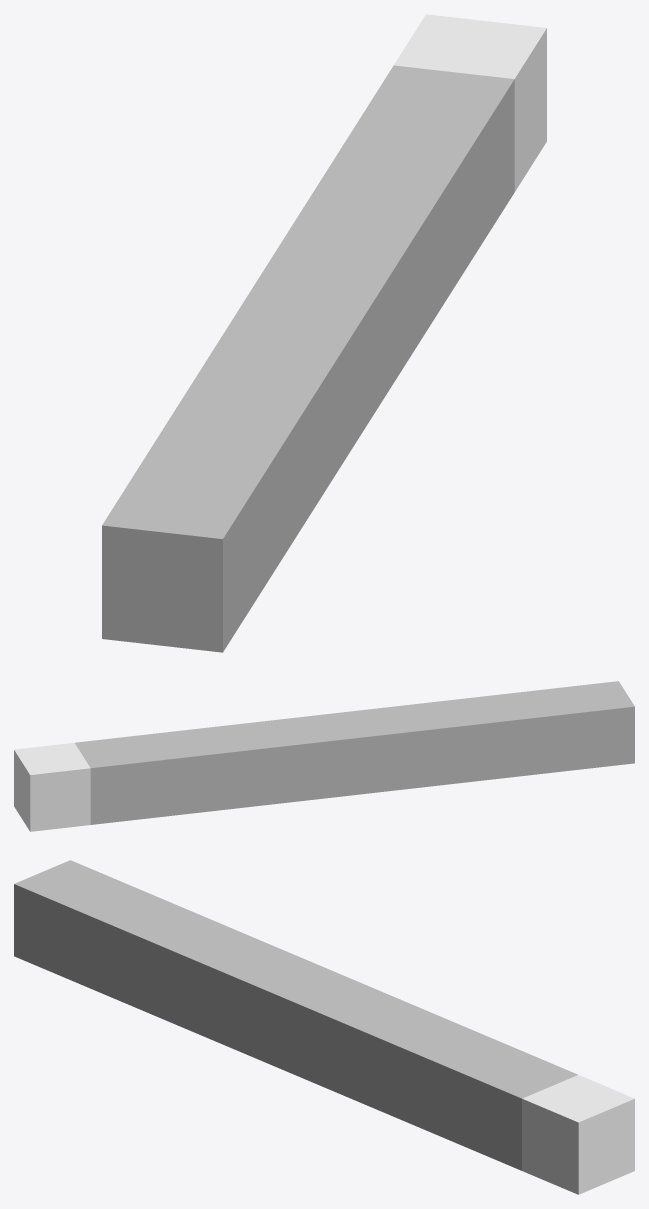
Rendered from item_THROWING_SPIKE.glb.
3 views of the same model, one above another, from view 1: azimuth 30°, elevation 25°; view 2: azimuth 150°, elevation 25°; view 3: azimuth 270°, elevation 25° (orthographic). The views are drawn at different scales.
Visible parts, largest first — view 1: item_THROWING_SPIKE; view 2: item_THROWING_SPIKE; view 3: item_THROWING_SPIKE.
Boxes of the visible parts, x1=… form: item_THROWING_SPIKE: x1=102, y1=14, x2=546, y2=652; item_THROWING_SPIKE: x1=14, y1=681, x2=634, y2=831; item_THROWING_SPIKE: x1=14, y1=860, x2=634, y2=1194.
Size of the model in its own units: 0.3536 by 0.0455 by 0.3536.
1 material, 1 textured.
